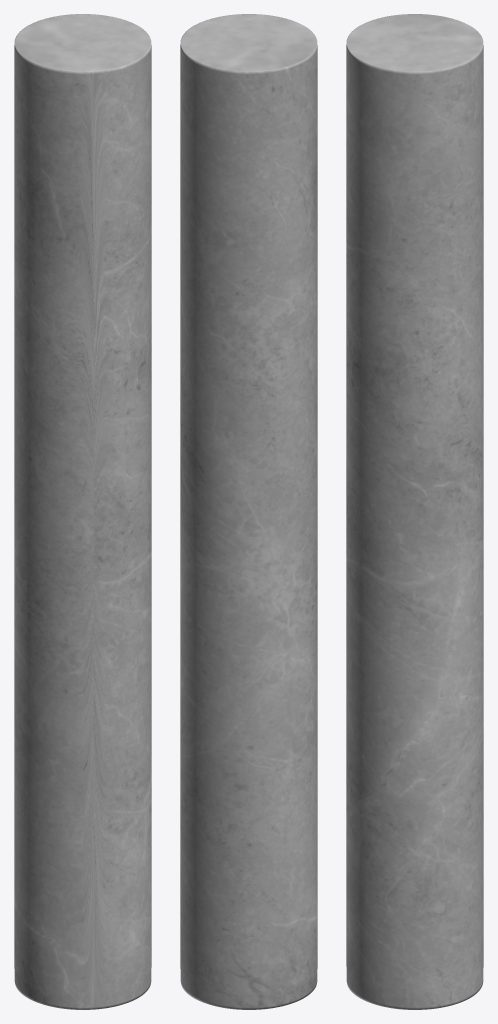
Rendered from column.fbx.
3 views of the same model, side by side, from view 1: azimuth 30°, elevation 25°; view 2: azimuth 150°, elevation 25°; view 3: azimuth 270°, elevation 25° (orthographic).
Parts seen in each view (by area): view 1: Column.002; view 2: Column.002; view 3: Column.002.
Boxes of the visible parts, box(x1,y1,x2,y2) form: Column.002: box(14, 14, 151, 1009); Column.002: box(180, 14, 317, 1009); Column.002: box(346, 14, 483, 1009).
Size of the model in its own units: 733 by 5536 by 733.
